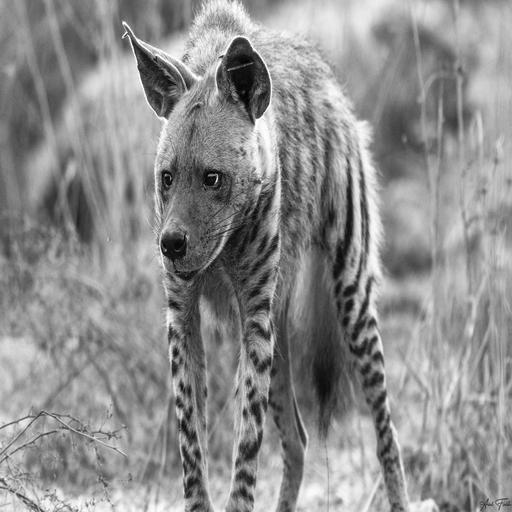Hyena: (116, 0, 432, 512)
